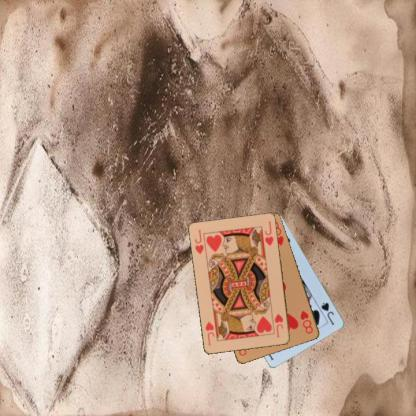8h: (298, 308, 314, 335)
Jh: (193, 226, 205, 256), (272, 312, 284, 338)
Js: (318, 300, 336, 326)
